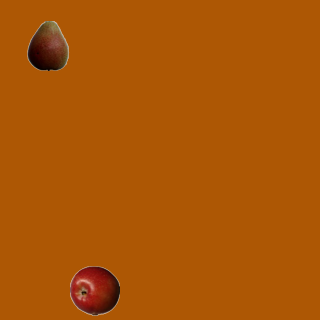Apple Braeburn: (69, 265, 119, 315)
Pear Forelle: (22, 20, 72, 70)
